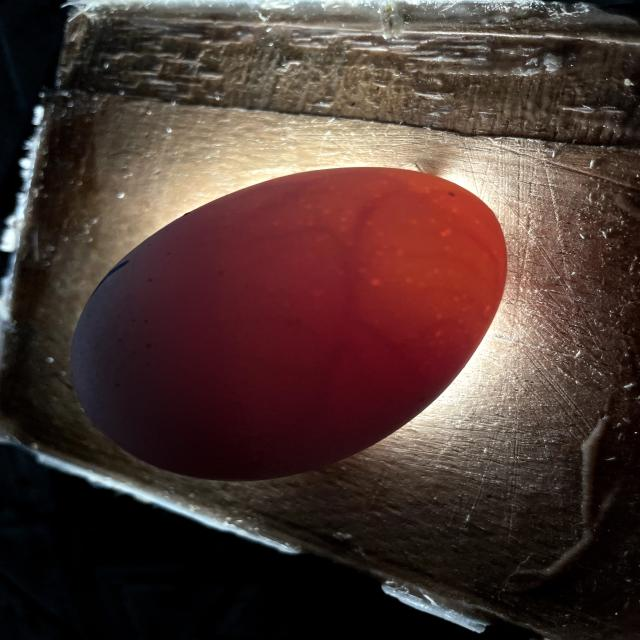fertile: (72, 167, 507, 480)
